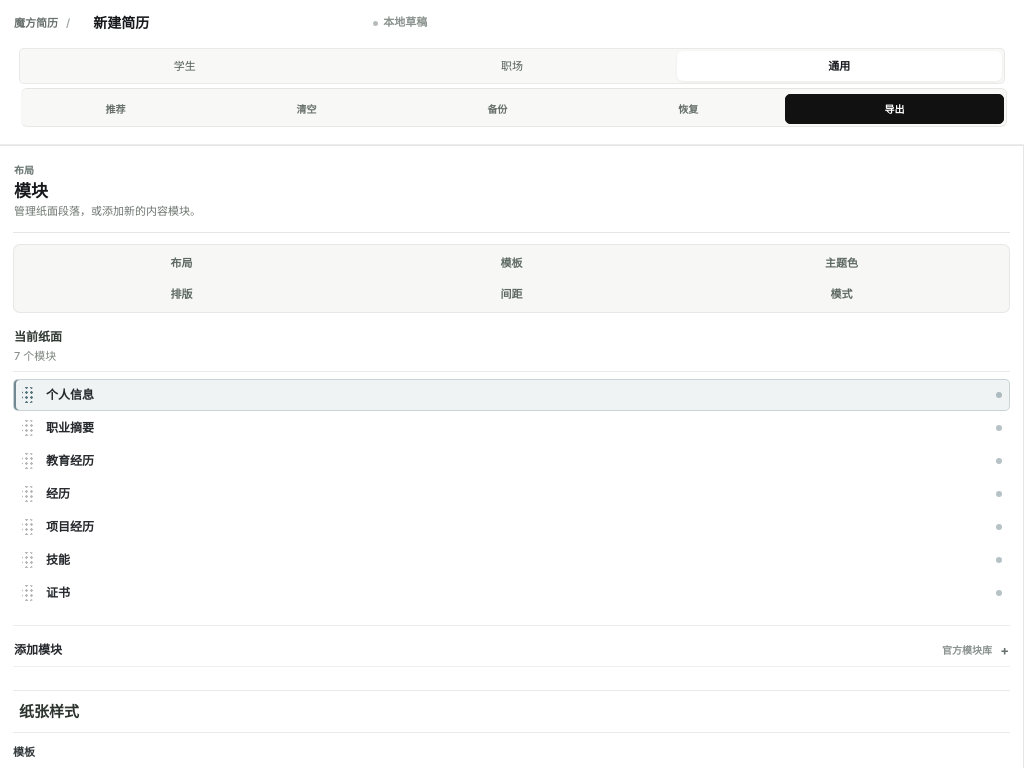
App › timeline inspector uses the same section rhythm as personal modules
Click the text "项目经历": (70, 526) [46, 519, 94, 534]
(page scrolled)
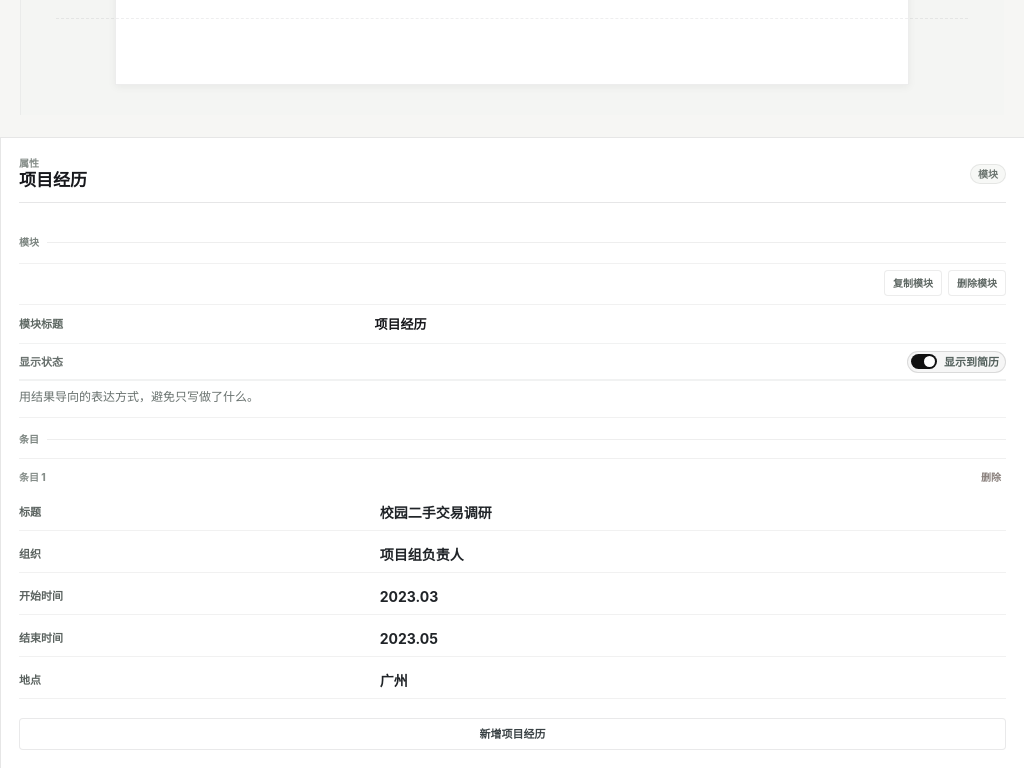
expect the text "条目" is shown: met, box [19, 432, 39, 447]
expect the text "条目 1" is shown: met, box [19, 472, 46, 482]
expect the button with aria-label "删除条目 1" is shown: met, box [976, 467, 1006, 487]
